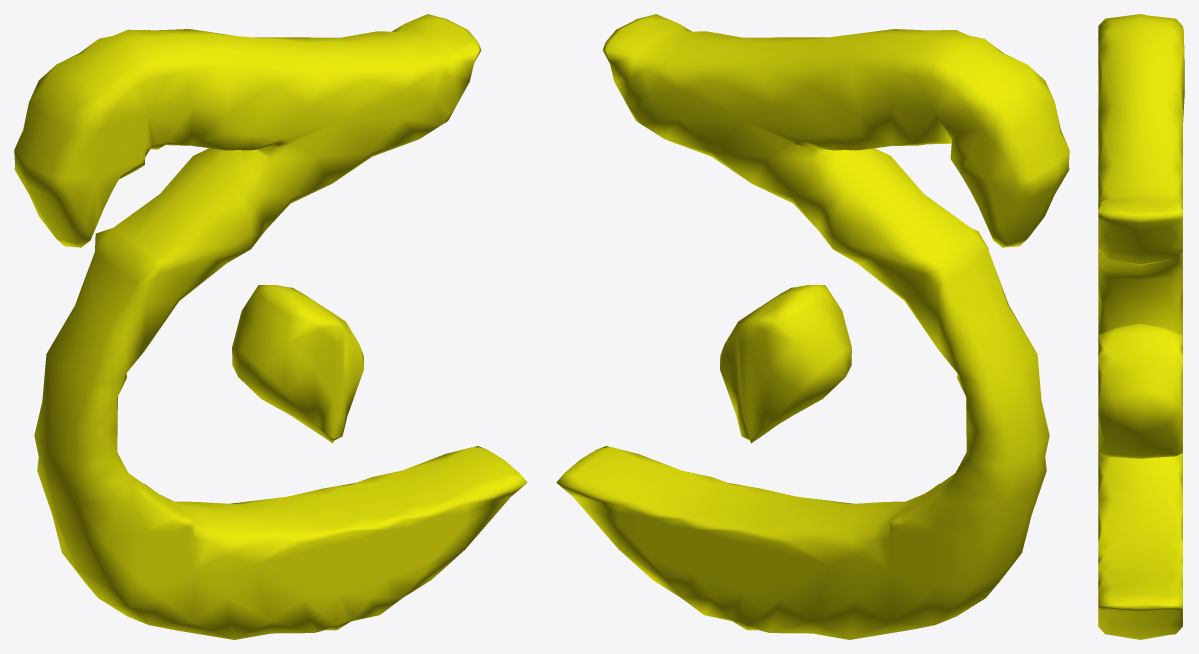
3 views of the same model, side by side, from view 1: azimuth 30°, elevation 25°; view 2: azimuth 150°, elevation 25°; view 3: azimuth 270°, elevation 25° (orthographic). The views are drawn at different scales.
Parts seen in each view (by area): view 1: char_1; view 2: char_1; view 3: char_1.
Boxes of the visible parts, x1,y1,x2,y2 form: char_1: (14, 14, 527, 639); char_1: (556, 14, 1069, 639); char_1: (1098, 14, 1184, 639).
Bounding box in the file's own units: 5.54 × 6.92 × 1.02.
